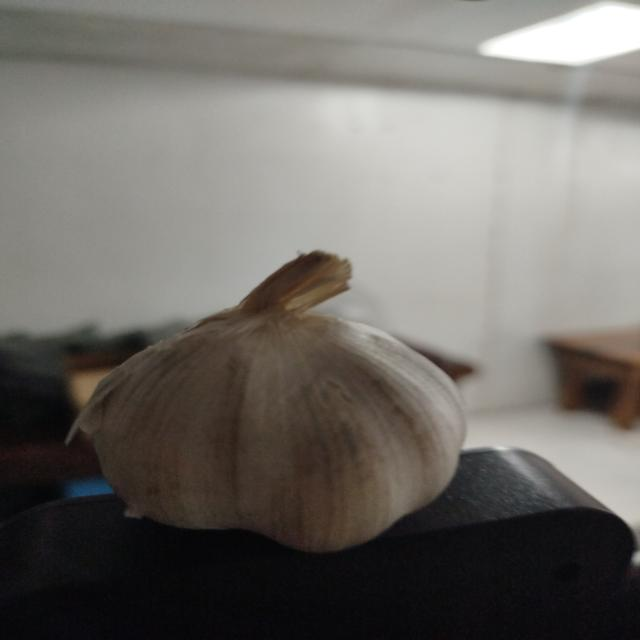garlic: (63, 249, 470, 553)
